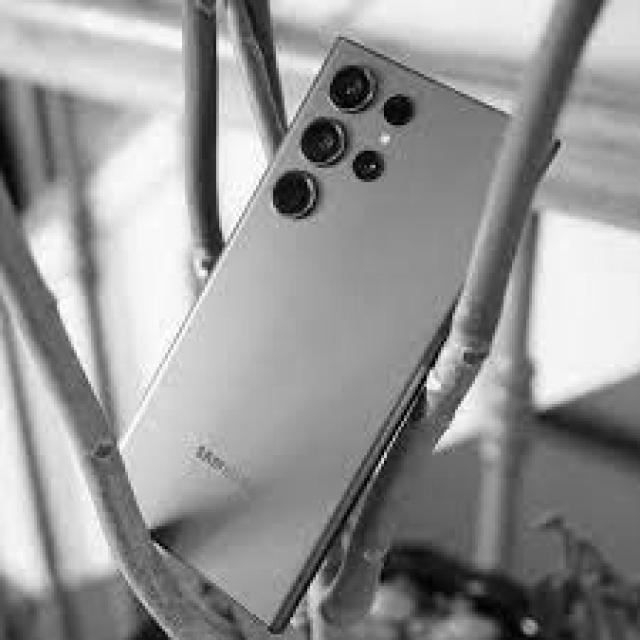No gun_phone: (116, 41, 558, 633)
